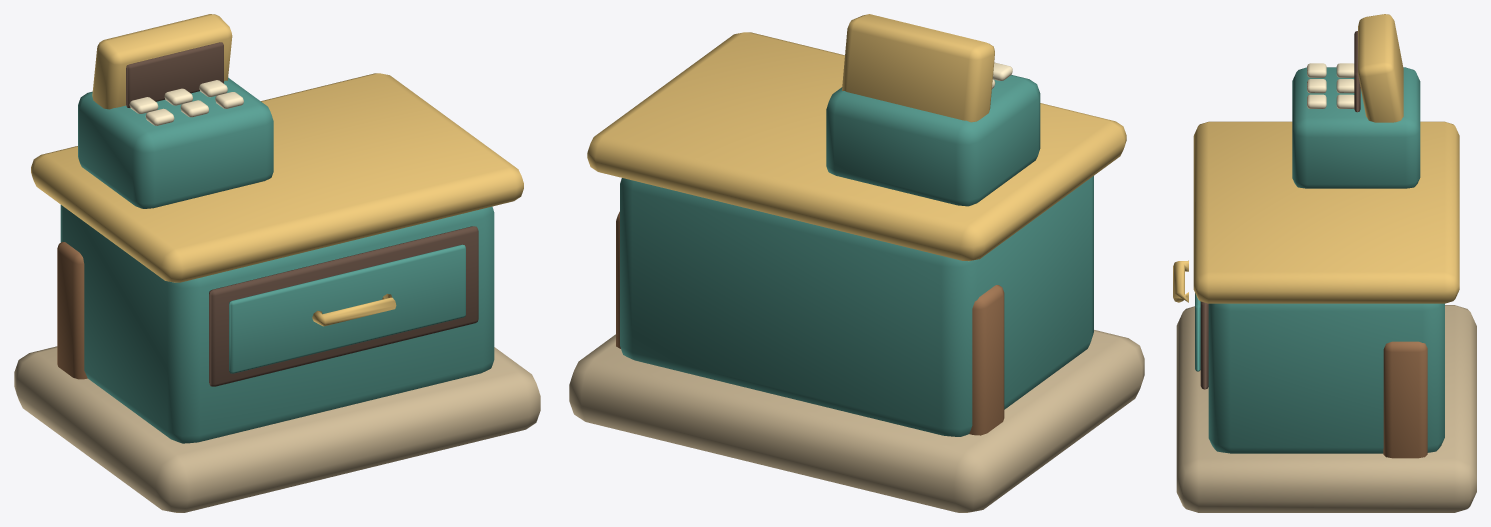
Rendered from register.glb.
3 views of the same model, side by side, from view 1: azimuth 30°, elevation 25°; view 2: azimuth 150°, elevation 25°; view 3: azimuth 270°, elevation 25° (orthographic). The views are drawn at different scales.
Visible parts, largest first — view 1: register_crafted_mesh; view 2: register_crafted_mesh; view 3: register_crafted_mesh.
Boxes of the visible parts, <box> form: register_crafted_mesh: <box>14,14,540,512</box>; register_crafted_mesh: <box>569,14,1144,512</box>; register_crafted_mesh: <box>1173,14,1476,512</box>.
Size of the model in its own units: 1.65 by 1.61 by 1.23.
